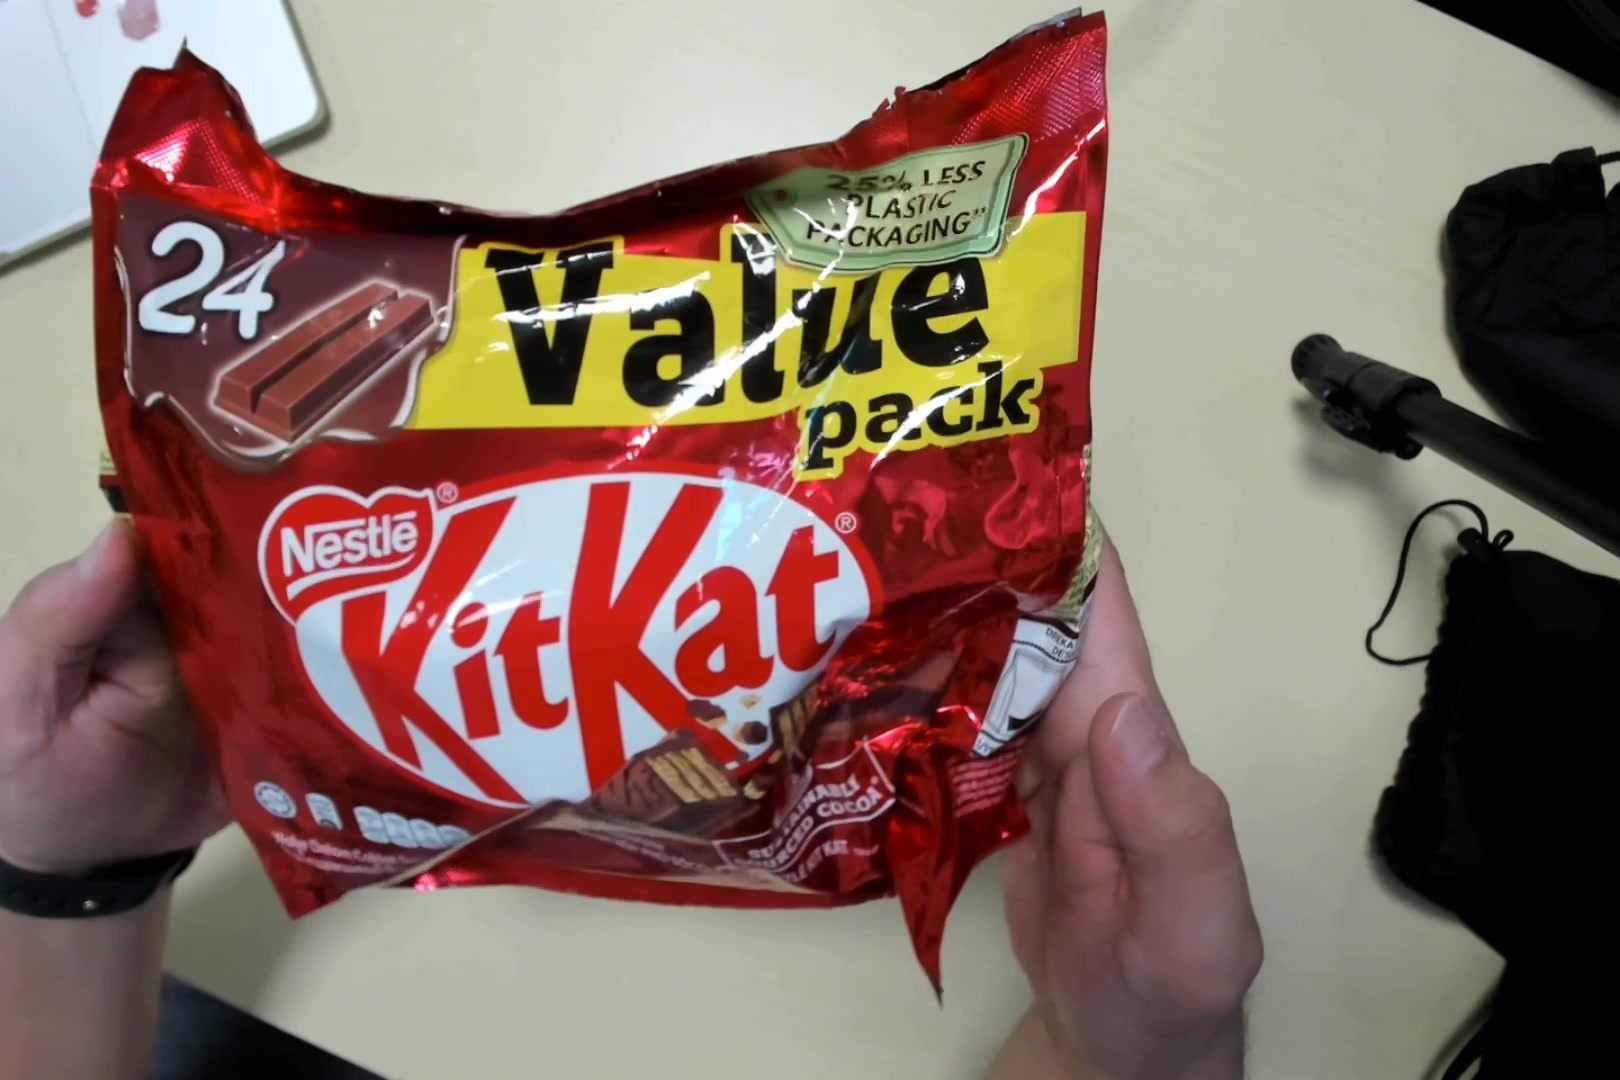SweetsChocolatesOthers_400-499g_Halal_NonHealthy: (96, 61, 1115, 925)
